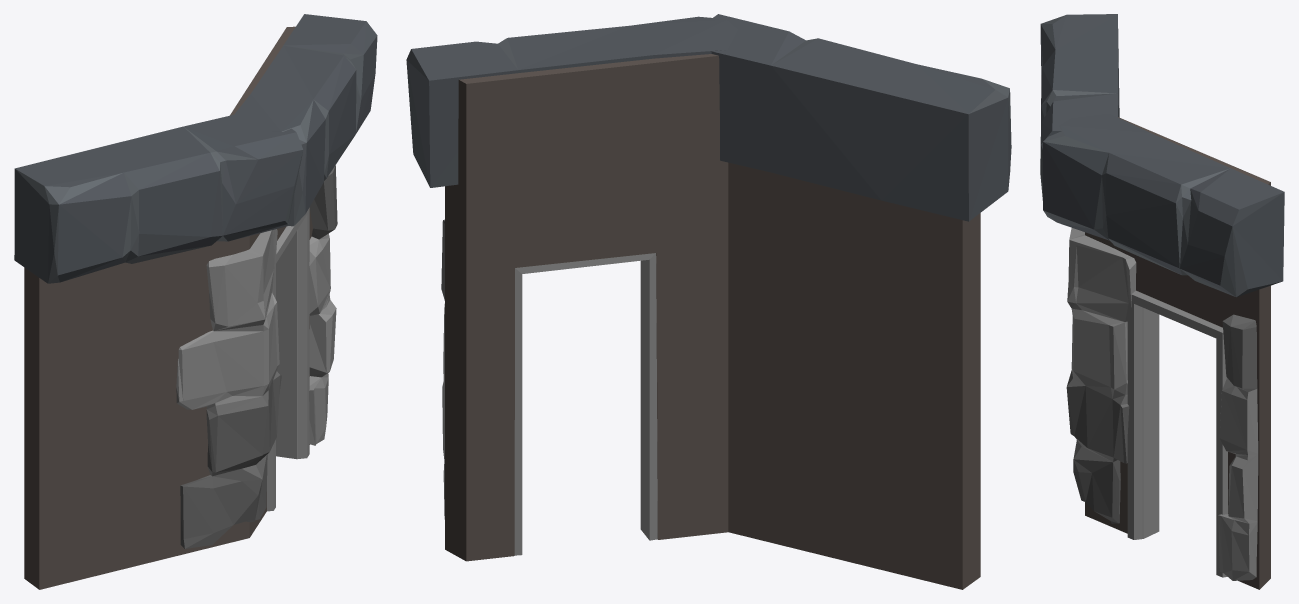
Rendered from MCastle_OctWalls_HeavyTrim_Door_02.FBX.
The picture shows the model from 3 angles, left to right: view 1: azimuth 30°, elevation 25°; view 2: azimuth 150°, elevation 25°; view 3: azimuth 270°, elevation 25°; orthographic projection. The views are drawn at different scales.
Parts seen in each view (by area): view 1: MCastle_OctWalls_HeavyTrim_Door_02_Bricks_LOD0; view 2: MCastle_OctWalls_HeavyTrim_Door_02_Bricks_LOD0; view 3: MCastle_OctWalls_HeavyTrim_Door_02_Bricks_LOD0.
Part boxes in pixels (x1,y1,x2,y2): MCastle_OctWalls_HeavyTrim_Door_02_Bricks_LOD0: (14, 14, 377, 589); MCastle_OctWalls_HeavyTrim_Door_02_Bricks_LOD0: (406, 14, 1011, 589); MCastle_OctWalls_HeavyTrim_Door_02_Bricks_LOD0: (1040, 14, 1284, 589).
Size of what is drawn, in the model's own units: 4.83 by 4.5 by 2.49.
